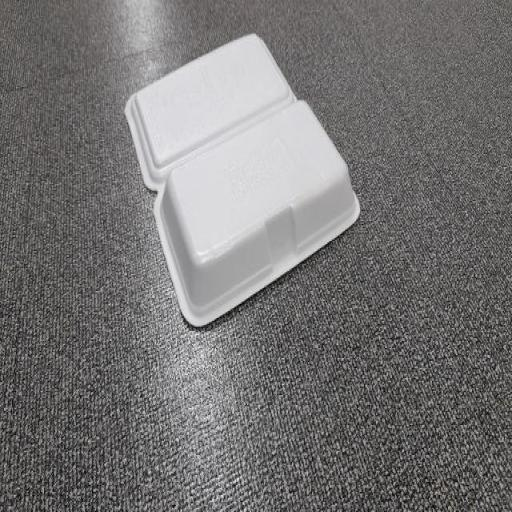styrofoam: (154, 101, 359, 325), (127, 34, 291, 184)
